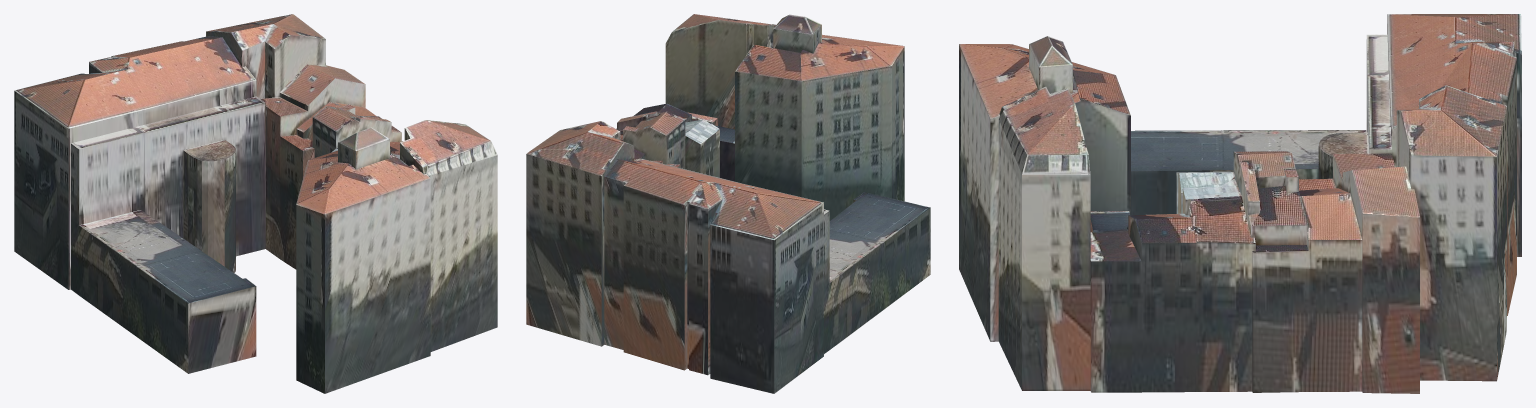
Rendered from LYON_1ER_00096.dae.
3 views of the same model, side by side, from view 1: azimuth 30°, elevation 25°; view 2: azimuth 150°, elevation 25°; view 3: azimuth 270°, elevation 25° (orthographic). The views are drawn at different scales.
Bounding box in the file's own units: 54.97 × 73.53 × 39.68.
Materials: 2 (2 with a texture image).
